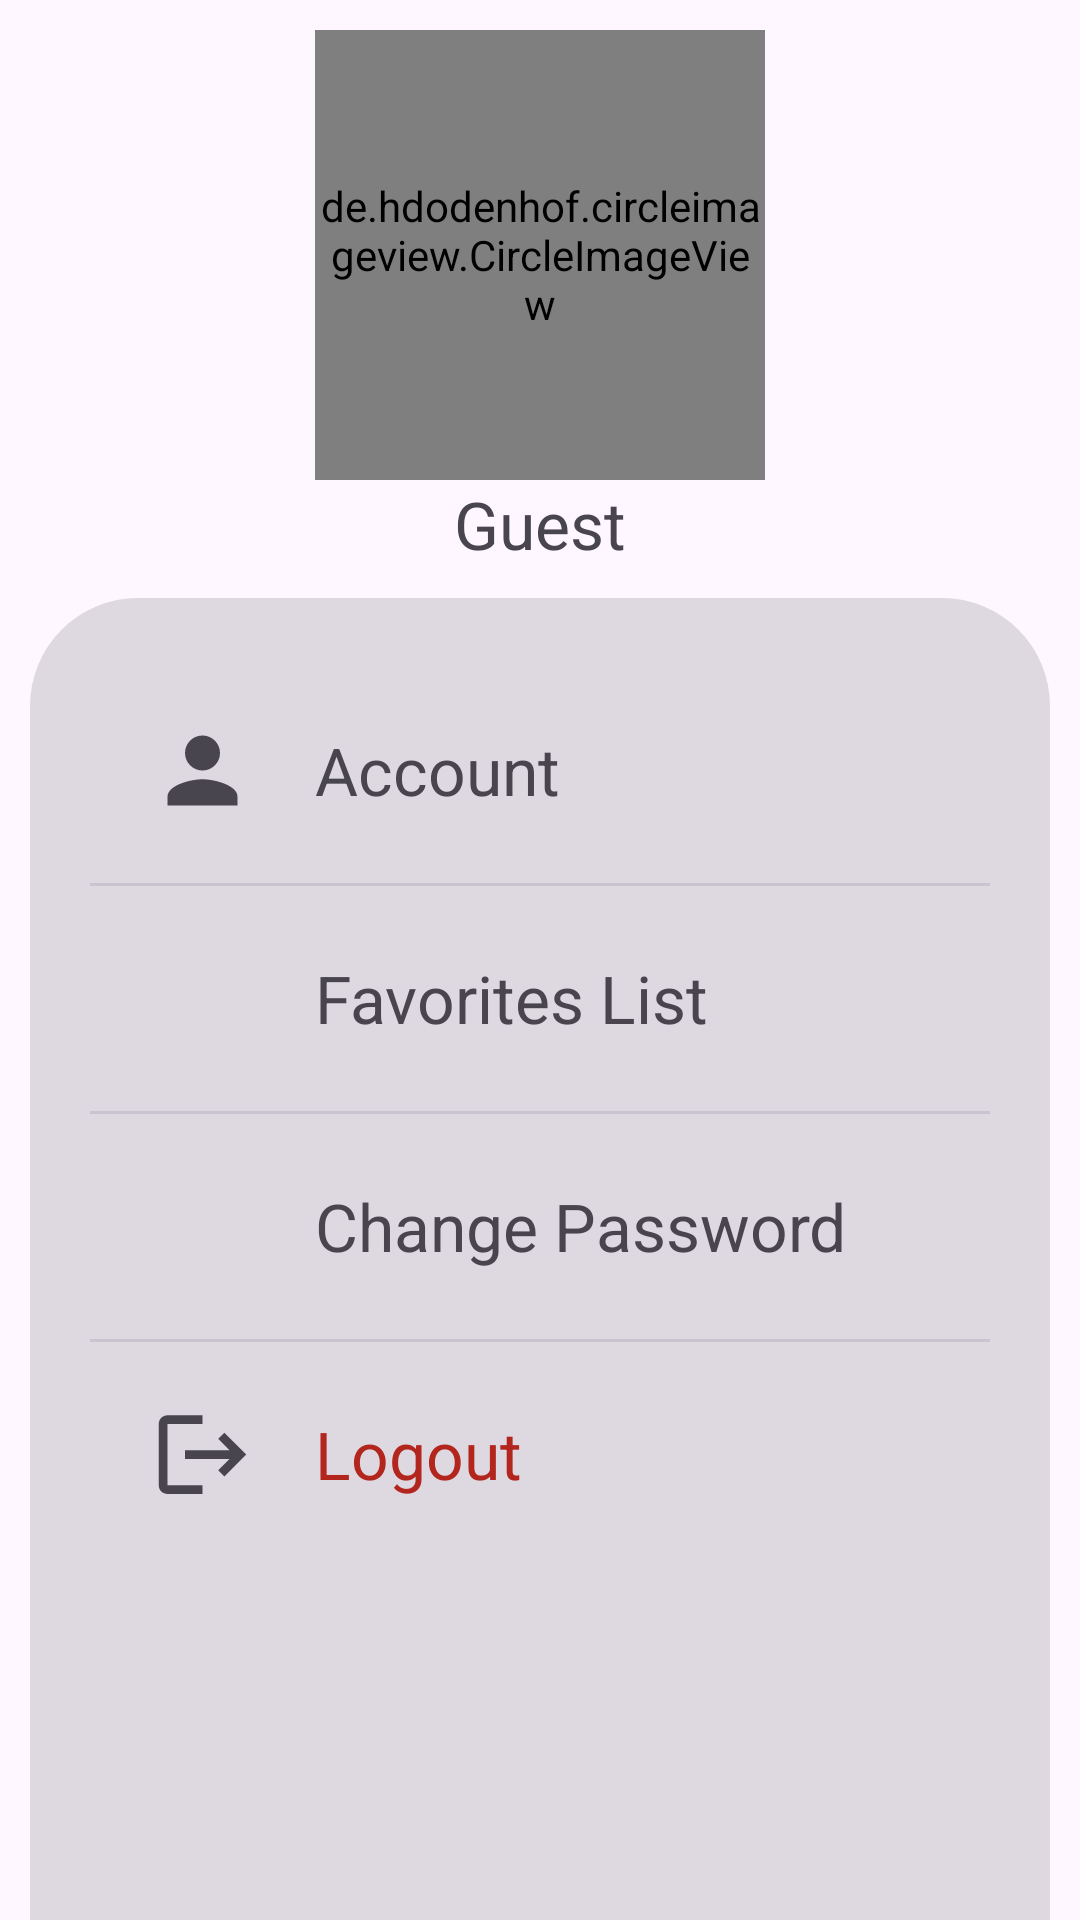

Screen size 1080x1920. Icon name, then its box in pixels as rect(x1, y1, x2, y2):
person: rect(167, 735, 238, 806)
